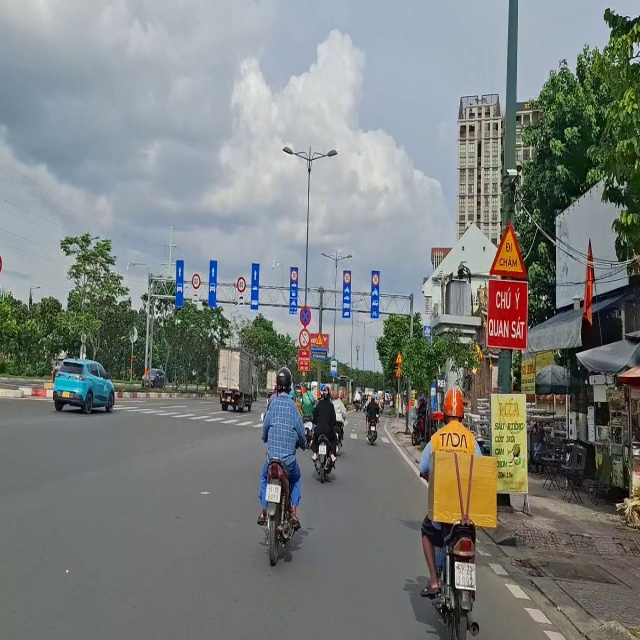di cham: (478, 204, 538, 280)
